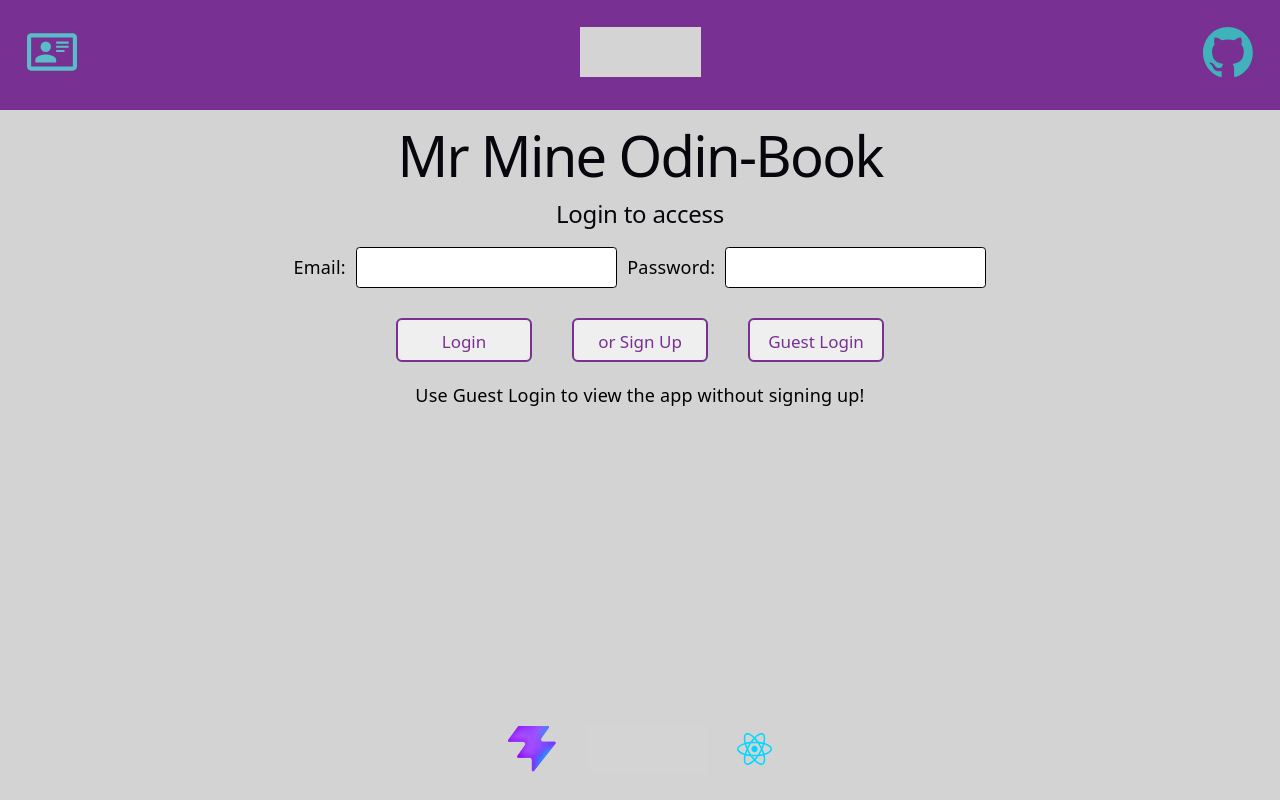
application routes › keeps protected routes inaccessible after failed login
This screenshot has width=1280, height=800.
Check: the heading "Login to access" is shown, box [556,197,724,230]
Click the button "Login": point(464, 340) [396,318,532,362]
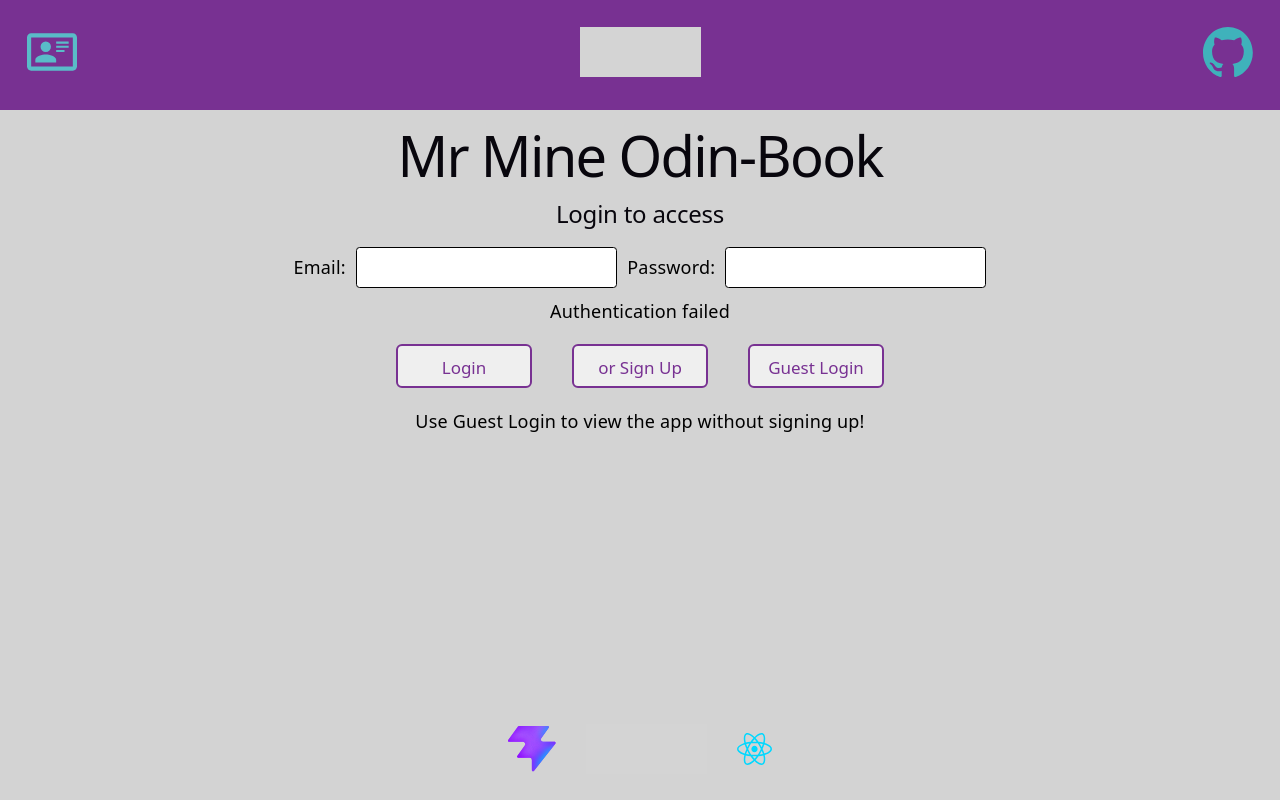
Check: the text "Authentication failed" is shown, box [550,298,730,322]
